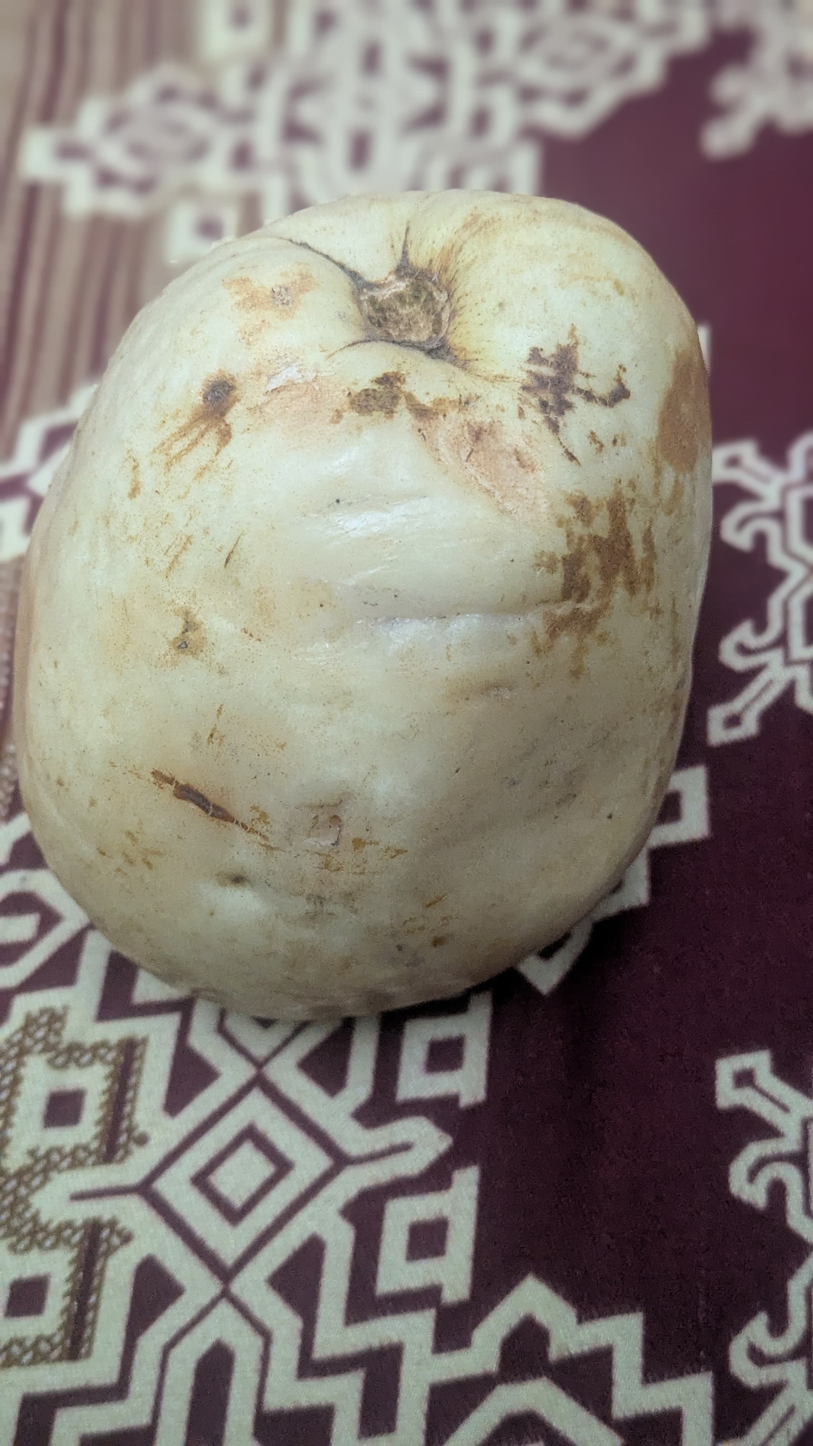guava: (52, 161, 780, 1312)
